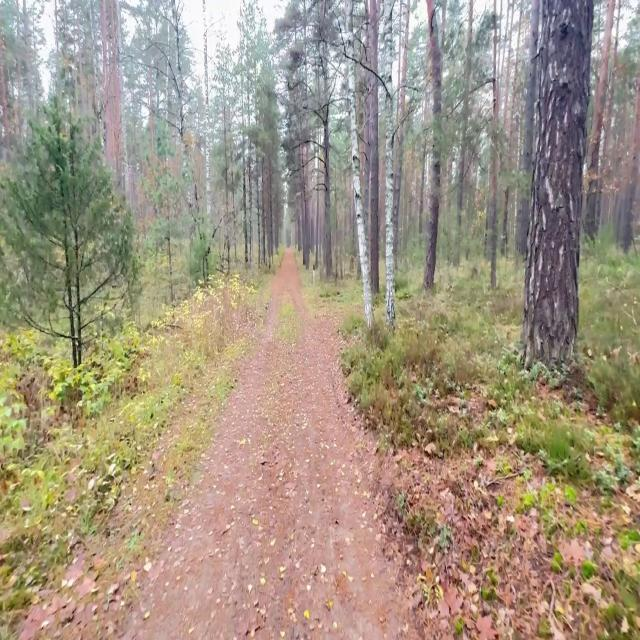bush: (0, 97, 136, 367), (190, 236, 208, 283)
trees: (522, 0, 593, 368), (172, 0, 210, 285), (346, 0, 373, 328), (585, 0, 615, 239), (516, 0, 539, 255), (423, 0, 442, 290), (455, 0, 473, 263), (382, 0, 395, 325), (368, 0, 382, 293), (318, 0, 332, 277), (394, 0, 410, 221), (487, 0, 499, 289), (622, 65, 639, 252), (203, 0, 211, 212), (323, 104, 332, 277), (242, 139, 248, 263)
